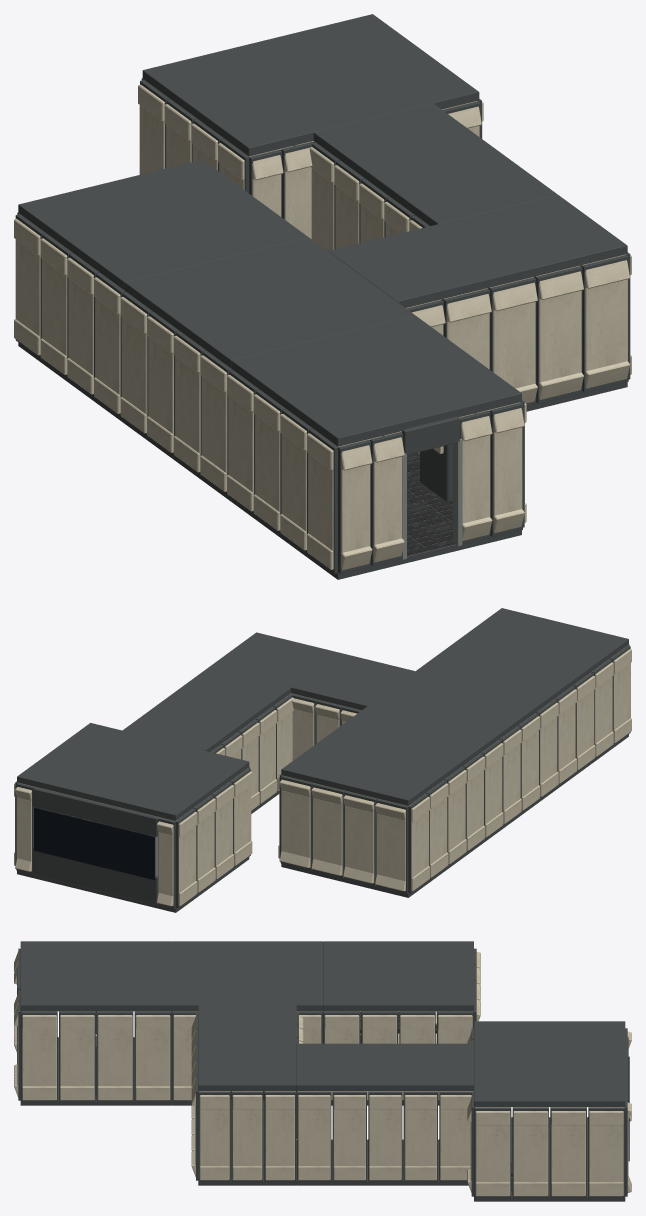
The model's file is ship_interior_layout_b_v1.glb.
3 renders of one model, top to bottom at view 1: azimuth 30°, elevation 25°; view 2: azimuth 150°, elevation 25°; view 3: azimuth 270°, elevation 25°, orthographic. The views are drawn at different scales.
Visible parts, largest first — view 1: export airlock structural_dark, export bridge structural_dark, export airlock paint_ivory, export quarters structural_dark, export common structural_dark, export passage_horizontal structural_dark, export passage_horizontal paint_ivory, export passage_vertical structural_dark, export common paint_ivory, export quarters paint_ivory, export bridge paint_ivory, export passage_vertical paint_ivory (+2 smaller); view 2: export bridge structural_dark, export quarters paint_ivory, export quarters structural_dark, export airlock structural_dark, export common structural_dark, export bridge paint_ivory, export passage_horizontal structural_dark, export passage_vertical structural_dark, export airlock paint_ivory, export common paint_ivory, export bridge space_window, export passage_vertical paint_ivory (+1 smaller); view 3: export bridge structural_dark, export passage_vertical paint_ivory, export airlock structural_dark, export bridge paint_ivory, export airlock paint_ivory, export quarters structural_dark, export passage_vertical structural_dark, export passage_horizontal structural_dark, export common structural_dark, export passage_horizontal paint_ivory, export quarters paint_ivory, export common paint_ivory.
Part boxes in pixels (x1=…): export airlock structural_dark: x1=229, y1=315, x2=524, y2=579; export bridge structural_dark: x1=140, y1=14, x2=481, y2=219; export airlock paint_ivory: x1=227, y1=370, x2=526, y2=570; export quarters structural_dark: x1=15, y1=159, x2=308, y2=423; export common structural_dark: x1=122, y1=237, x2=415, y2=501; export passage_horizontal structural_dark: x1=328, y1=195, x2=630, y2=411; export passage_horizontal paint_ivory: x1=406, y1=254, x2=631, y2=403; export passage_vertical structural_dark: x1=312, y1=103, x2=557, y2=249; export common paint_ivory: x1=120, y1=292, x2=231, y2=491; export quarters paint_ivory: x1=14, y1=214, x2=124, y2=413; export bridge paint_ivory: x1=138, y1=80, x2=483, y2=238; export passage_vertical paint_ivory: x1=309, y1=142, x2=534, y2=277; export bridge structural_dark: x1=15, y1=723, x2=250, y2=912; export quarters paint_ivory: x1=278, y1=753, x2=484, y2=891; export quarters structural_dark: x1=279, y1=715, x2=483, y2=897; export airlock structural_dark: x1=429, y1=608, x2=630, y2=790; export common structural_dark: x1=355, y1=662, x2=557, y2=843; export bridge paint_ivory: x1=14, y1=768, x2=252, y2=906; export passage_horizontal structural_dark: x1=209, y1=632, x2=414, y2=744; export passage_vertical structural_dark: x1=122, y1=667, x2=292, y2=813; export airlock paint_ivory: x1=555, y1=645, x2=631, y2=783; export common paint_ivory: x1=377, y1=700, x2=558, y2=837; export bridge space_window: x1=34, y1=807, x2=155, y2=879; export passage_vertical paint_ivory: x1=211, y1=694, x2=293, y2=810; export bridge structural_dark: x1=471, y1=1021, x2=628, y2=1201; export passage_vertical paint_ivory: x1=297, y1=1091, x2=473, y2=1180; export airlock structural_dark: x1=17, y1=941, x2=171, y2=1105; export bridge paint_ivory: x1=467, y1=1031, x2=631, y2=1196; export airlock paint_ivory: x1=14, y1=951, x2=170, y2=1100; export quarters structural_dark: x1=323, y1=941, x2=476, y2=1105; export passage_vertical structural_dark: x1=296, y1=1043, x2=473, y2=1185; export passage_horizontal structural_dark: x1=196, y1=1005, x2=298, y2=1185; export common structural_dark: x1=171, y1=941, x2=323, y2=1105; export passage_horizontal paint_ivory: x1=191, y1=1016, x2=303, y2=1180; export quarters paint_ivory: x1=324, y1=951, x2=480, y2=1100; export common paint_ivory: x1=173, y1=1011, x2=321, y2=1100.
Size of the model in its own units: 10.25 by 2.94 by 16.35.
Materials: 9 (4 with a texture image).
